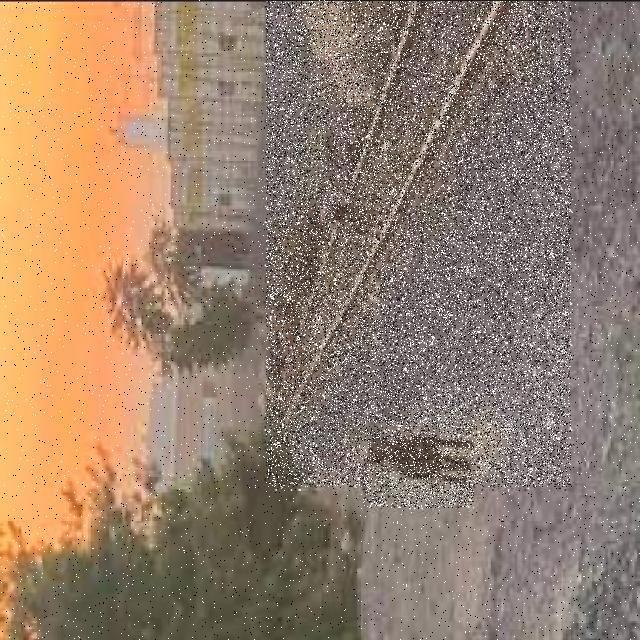danger: (363, 420, 474, 508), (306, 177, 402, 246)
rail: (267, 1, 571, 487)
